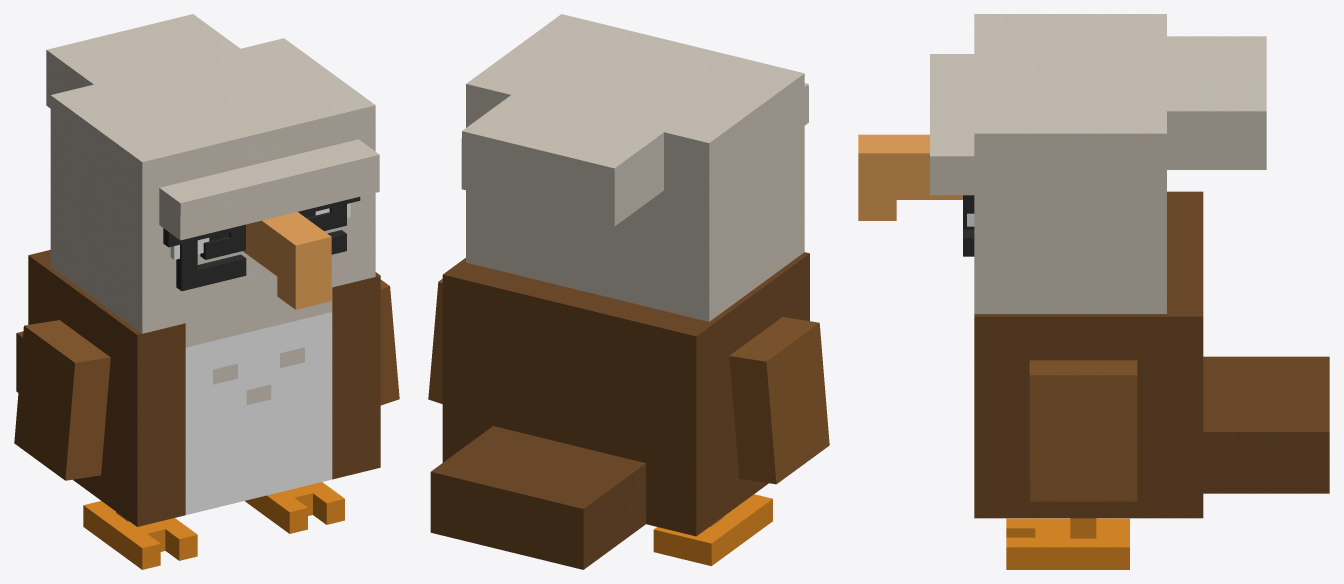
The picture shows the model from 3 angles, left to right: view 1: azimuth 30°, elevation 25°; view 2: azimuth 150°, elevation 25°; view 3: azimuth 270°, elevation 25°; orthographic projection. The views are drawn at different scales.
Visible parts, largest first — view 1: Ch_21_Head, Ch_21, Ch_21_Wing_L, Ch_21_Leg_L, Ch_21_Leg_R, Ch_21_Eye_03_L, Ch_21_Wing_R, Ch_21_Eye_03_R, Ch_21_Eye_02, Ch_21_Eye_01; view 2: Ch_21_Head, Ch_21, Ch_21_Wing_L, Ch_21_Leg_L, Ch_21_Wing_R; view 3: Ch_21_Head, Ch_21, Ch_21_Wing_R, Ch_21_Leg_R.
Boxes of the visible parts, <box> form: Ch_21_Head: <box>46,14,379,333</box>; Ch_21: <box>16,250,380,526</box>; Ch_21_Wing_L: <box>14,320,110,480</box>; Ch_21_Leg_L: <box>83,501,197,569</box>; Ch_21_Leg_R: <box>245,482,344,533</box>; Ch_21_Eye_03_L: <box>176,225,246,291</box>; Ch_21_Wing_R: <box>380,279,399,405</box>; Ch_21_Eye_03_R: <box>306,200,346,254</box>; Ch_21_Eye_02: <box>163,196,360,247</box>; Ch_21_Eye_01: <box>170,203,350,259</box>; Ch_21_Head: <box>461,14,808,321</box>; Ch_21: <box>430,252,809,569</box>; Ch_21_Wing_L: <box>729,317,829,484</box>; Ch_21_Leg_L: <box>653,494,772,565</box>; Ch_21_Wing_R: <box>428,279,442,403</box>; Ch_21_Head: <box>858,14,1266,313</box>; Ch_21: <box>974,191,1329,518</box>; Ch_21_Wing_R: <box>1029,360,1137,501</box>; Ch_21_Leg_R: <box>1006,518,1129,569</box>.
Bounding box in the file's own units: 8.64 × 10.43 × 10.03.
